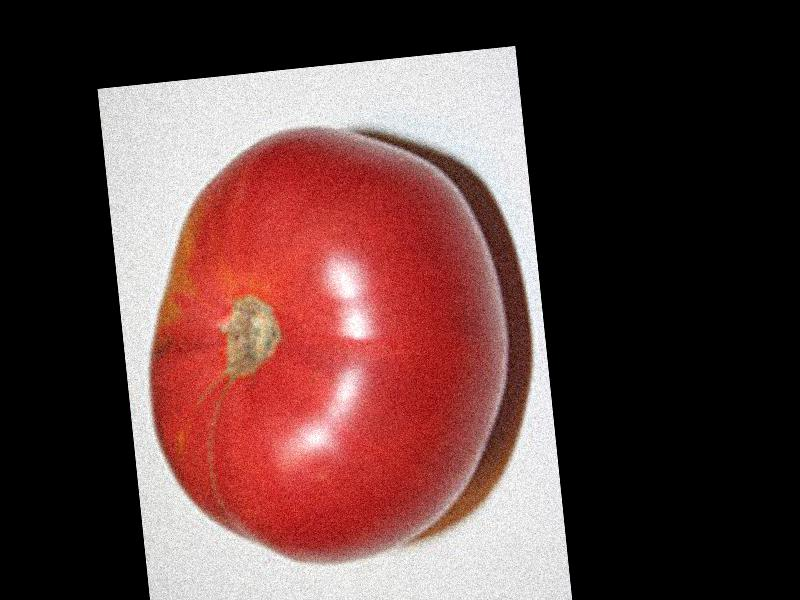Tomato: (120, 107, 519, 582)
